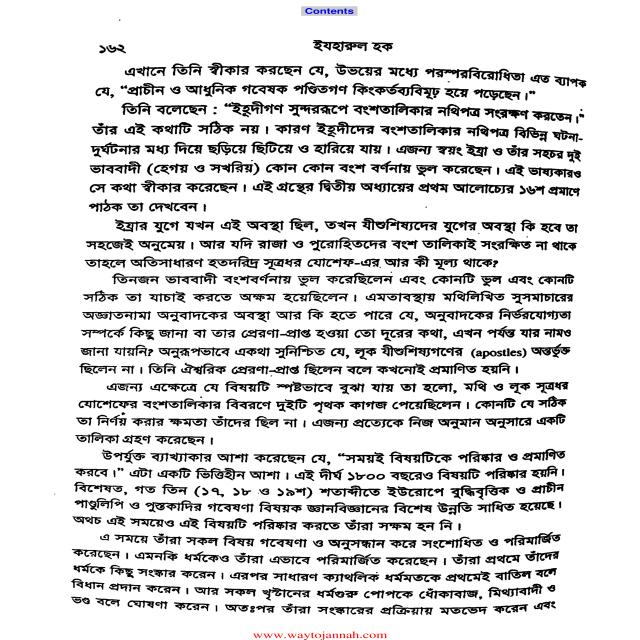page number: (94, 40, 130, 57)
paragraph: (65, 270, 593, 386), (80, 99, 593, 213), (55, 529, 565, 631), (57, 449, 572, 531), (65, 375, 574, 449), (51, 215, 605, 272), (90, 61, 604, 103)
text: (254, 631, 393, 640), (298, 3, 359, 18)
title: (312, 33, 392, 56)
